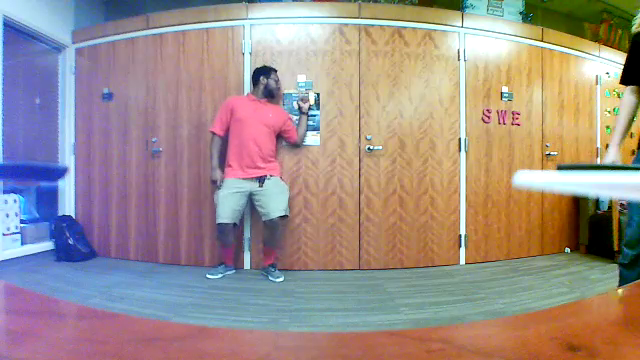up: (296, 86, 312, 115)
